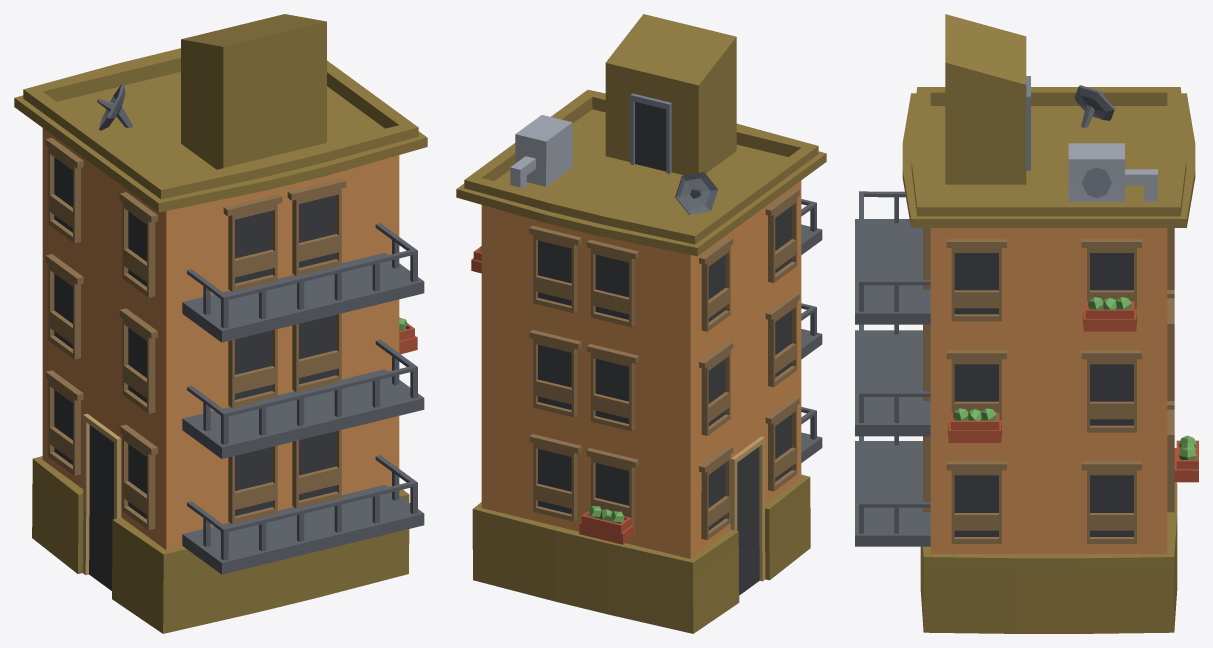
The model's file is Building_House_04.fbx.
3 views of the same model, side by side, from view 1: azimuth 30°, elevation 25°; view 2: azimuth 150°, elevation 25°; view 3: azimuth 270°, elevation 25° (orthographic). The views are drawn at different scales.
Parts seen in each view (by area): view 1: Building_House_04; view 2: Building_House_04; view 3: Building_House_04.
Boxes of the visible parts, x1,y1,x2,y2 form: Building_House_04: (14, 14, 427, 633); Building_House_04: (456, 14, 826, 633); Building_House_04: (855, 14, 1198, 633).
Bounding box in the file's own units: 761 × 1463 × 849.
